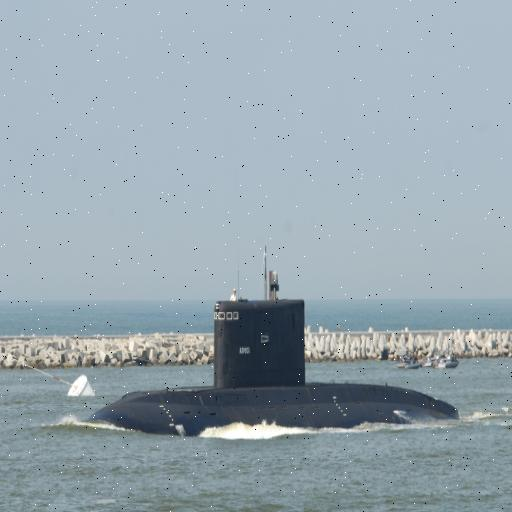submarine: (75, 238, 512, 444)
